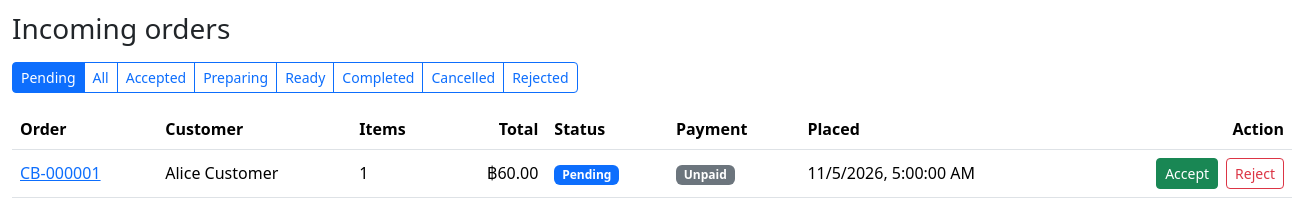
Test: OperatorOrders screen (AC-32, AC-33, AC-34, AC-35, AC-41) › reconciles and displays the accepted order when switching to Accepted tab while accept is in flight
This screenshot has width=1292, height=215.
Later steps or results of the test are not shown.
expect the link "CB-000001" is shown: met, box x1=20 y1=162 x2=101 y2=184
# Operator clicks Accept on Pending tab
Click the button "Accept". click: (1187, 173)
box: x1=1156 y1=158 x2=1218 y2=189
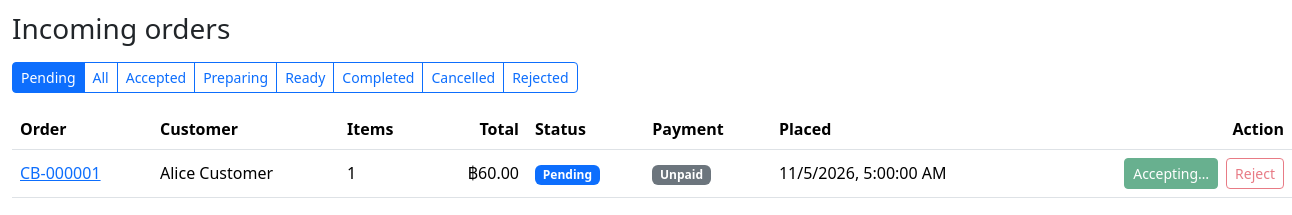
# While accept request is in flight, switch to "Accepted" tab
Click the button "Accepted". click: (156, 77)
box: x1=117 y1=62 x2=195 y2=93
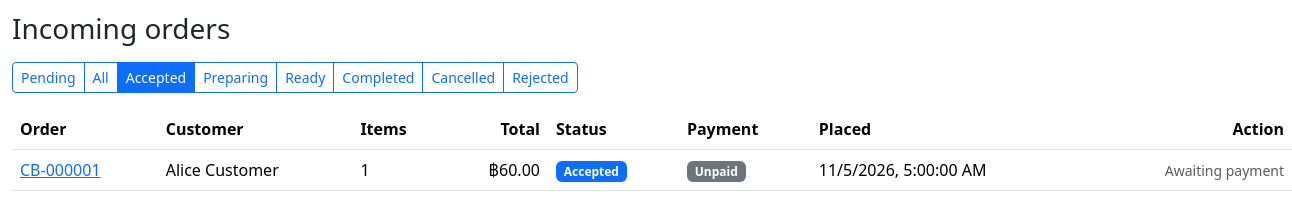
expect the text "Accepted" is shown: met, box x1=556 y1=161 x2=627 y2=182
